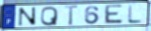6: (84, 5, 100, 25)
E: (103, 4, 125, 25)
L: (127, 4, 144, 24)
N: (18, 7, 38, 27)
Q: (40, 5, 59, 27)
T: (63, 5, 80, 26)
